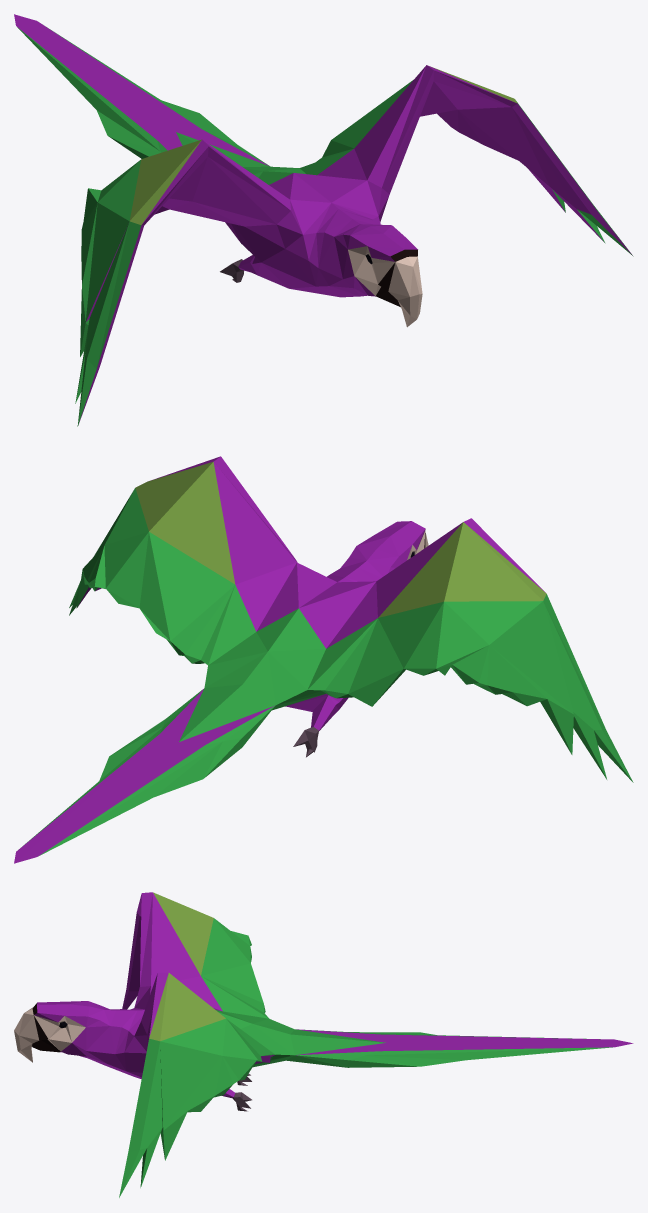
Rendered from Parrot_recolored - Copy.glb.
3 renders of one model, top to bottom at view 1: azimuth 30°, elevation 25°; view 2: azimuth 150°, elevation 25°; view 3: azimuth 270°, elevation 25°, orthographic. The views are drawn at different scales.
Bounding box in the file's own units: 79.5 × 33.7 × 100.
